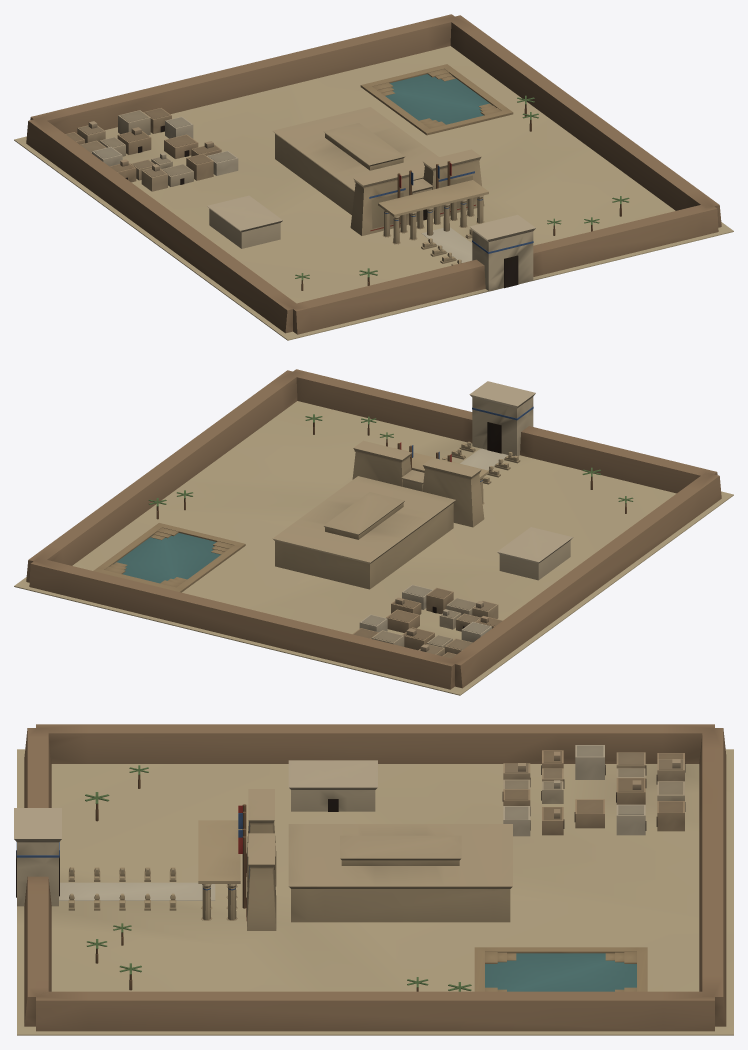
File: montu-precinct.glb
The picture shows the model from 3 angles, top to bottom: view 1: azimuth 30°, elevation 25°; view 2: azimuth 150°, elevation 25°; view 3: azimuth 270°, elevation 25°; orthographic projection. The views are drawn at different scales.
Visible parts, largest first — view 1: p0_lake, p1_temple, p3_houses, p2_portico; view 2: p0_lake, p1_temple, p3_houses; view 3: p0_lake, p1_temple, p3_houses, p2_portico.
Boxes of the visible parts, x1,y1,x2,y2 form: p0_lake: (14,14,733,340); p1_temple: (207,107,535,290); p3_houses: (65,95,629,284); p2_portico: (378,180,488,244); p0_lake: (14,369,733,695); p1_temple: (272,381,572,589); p3_houses: (148,414,633,658); p0_lake: (17,724,733,1035); p1_temple: (14,760,512,930); p3_houses: (68,745,685,991); p2_portico: (198,820,240,920).
Size of the model in its own units: 160 by 18.88 by 171.
